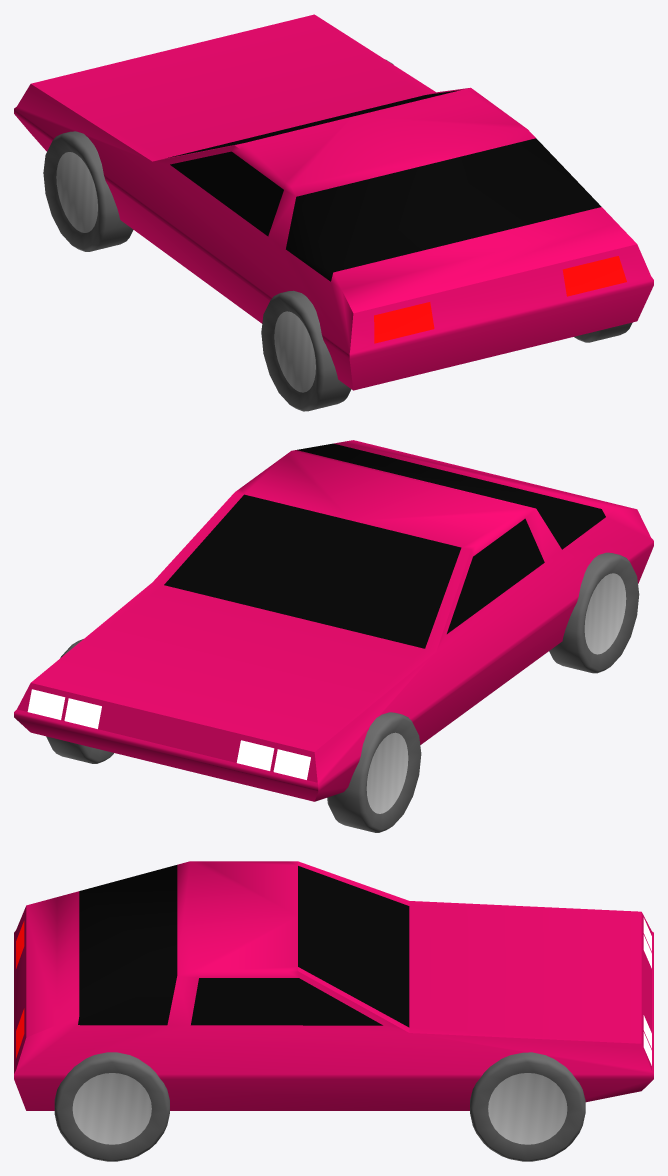
Rendered from car.cfb7fa47.glb.
The picture shows the model from 3 angles, top to bottom: view 1: azimuth 30°, elevation 25°; view 2: azimuth 150°, elevation 25°; view 3: azimuth 270°, elevation 25°; orthographic projection. The views are drawn at different scales.
Parts seen in each view (by area): view 1: Chassis, Wheel3, Wheel1; view 2: Chassis, Wheel1, Wheel3, Wheel2; view 3: Chassis, Wheel4, Wheel2.
Part boxes in pixels (left/top/right/bottom): Chassis: left=14, top=14, right=653, bottom=390; Wheel3: left=261, top=290, right=351, bottom=411; Wheel1: left=43, top=131, right=133, bottom=251; Chassis: left=14, top=440, right=653, bottom=801; Wheel1: left=327, top=712, right=421, bottom=832; Wheel3: left=549, top=552, right=639, bottom=673; Wheel2: left=46, top=639, right=113, bottom=763; Chassis: left=14, top=861, right=653, bottom=1110; Wheel4: left=54, top=1052, right=169, bottom=1161; Wheel2: left=470, top=1052, right=585, bottom=1161.
Bounding box in the file's own units: 1.66 × 0.8934 × 3.
